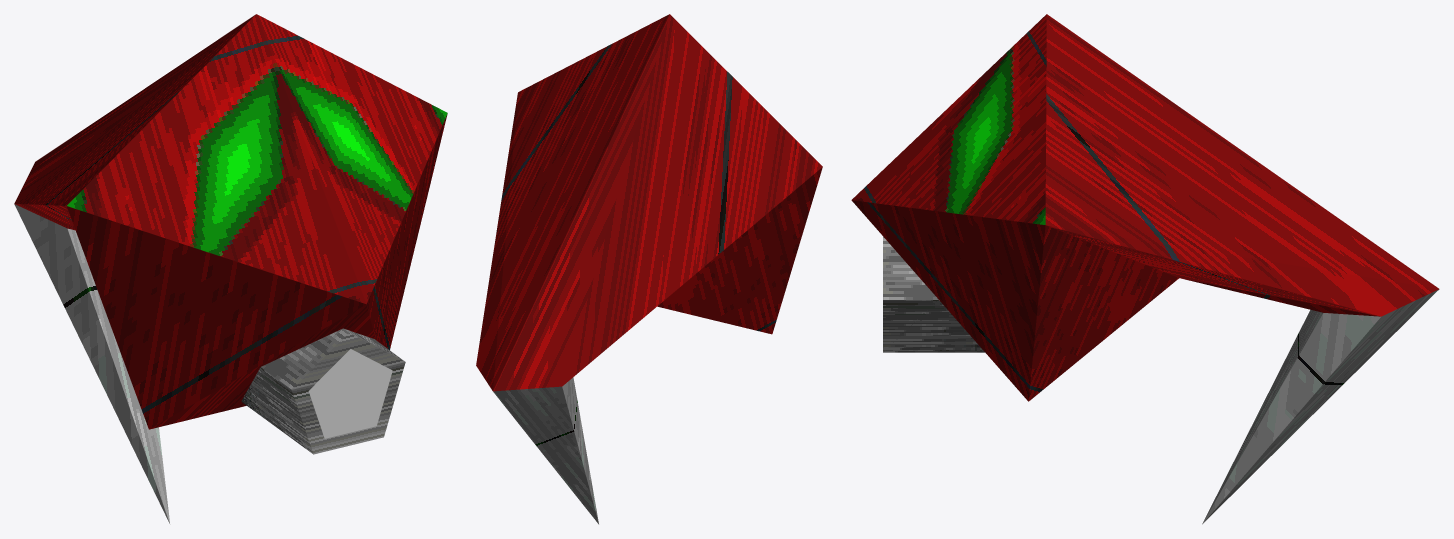
File: model_064_robot_noname.glb
The picture shows the model from 3 angles, left to right: view 1: azimuth 30°, elevation 25°; view 2: azimuth 150°, elevation 25°; view 3: azimuth 270°, elevation 25°; orthographic projection. The views are drawn at different scales.
Parts seen in each view (by area): view 1: model_064; view 2: model_064; view 3: model_064.
Part boxes in pixels (x1,y1,x2,y2): model_064: (14, 14, 447, 524); model_064: (476, 14, 822, 524); model_064: (851, 14, 1439, 524).
Size of the model in its own units: 3.32 by 4.79 by 5.
Materials: 5 (4 with a texture image).
